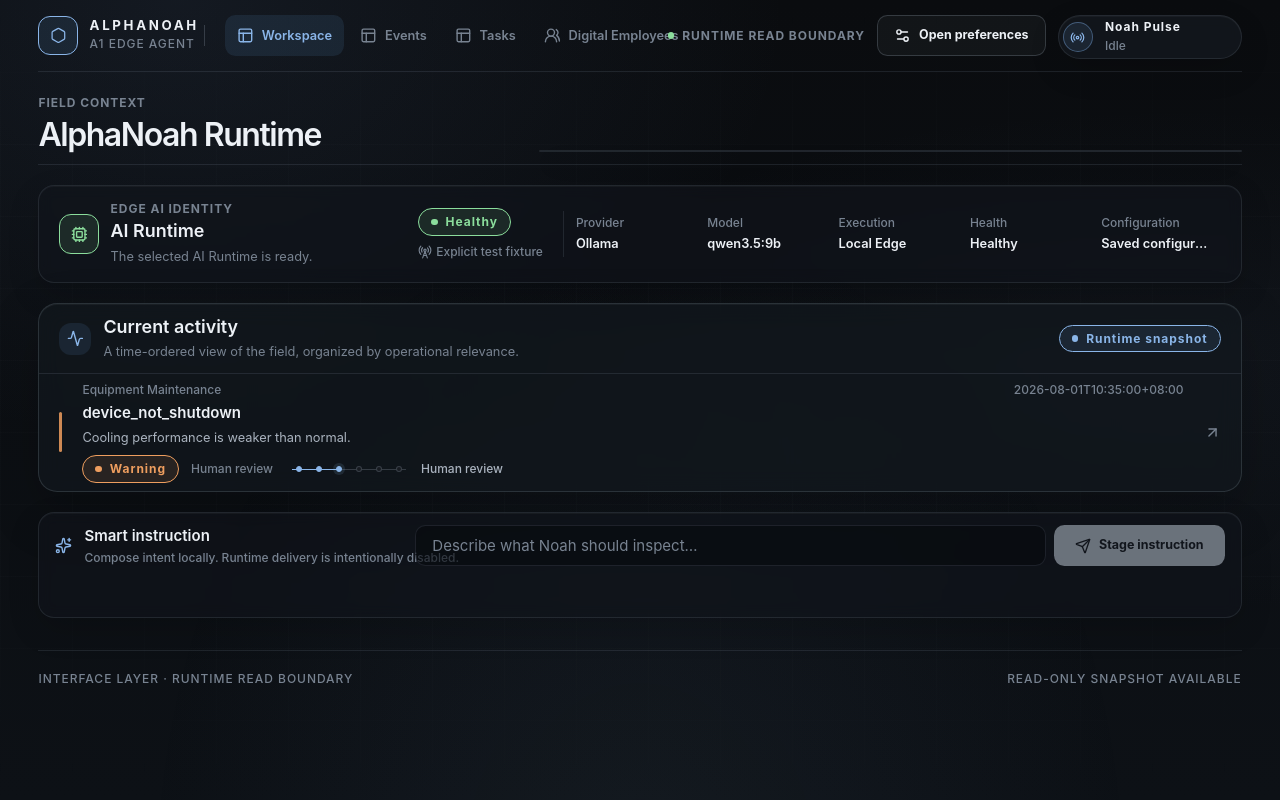
Test case: F04-B Human Review interaction › waits for approval and displays the persisted Task
Click the button "device_not_shutdown" at [152, 390], box [39, 374, 1241, 491]
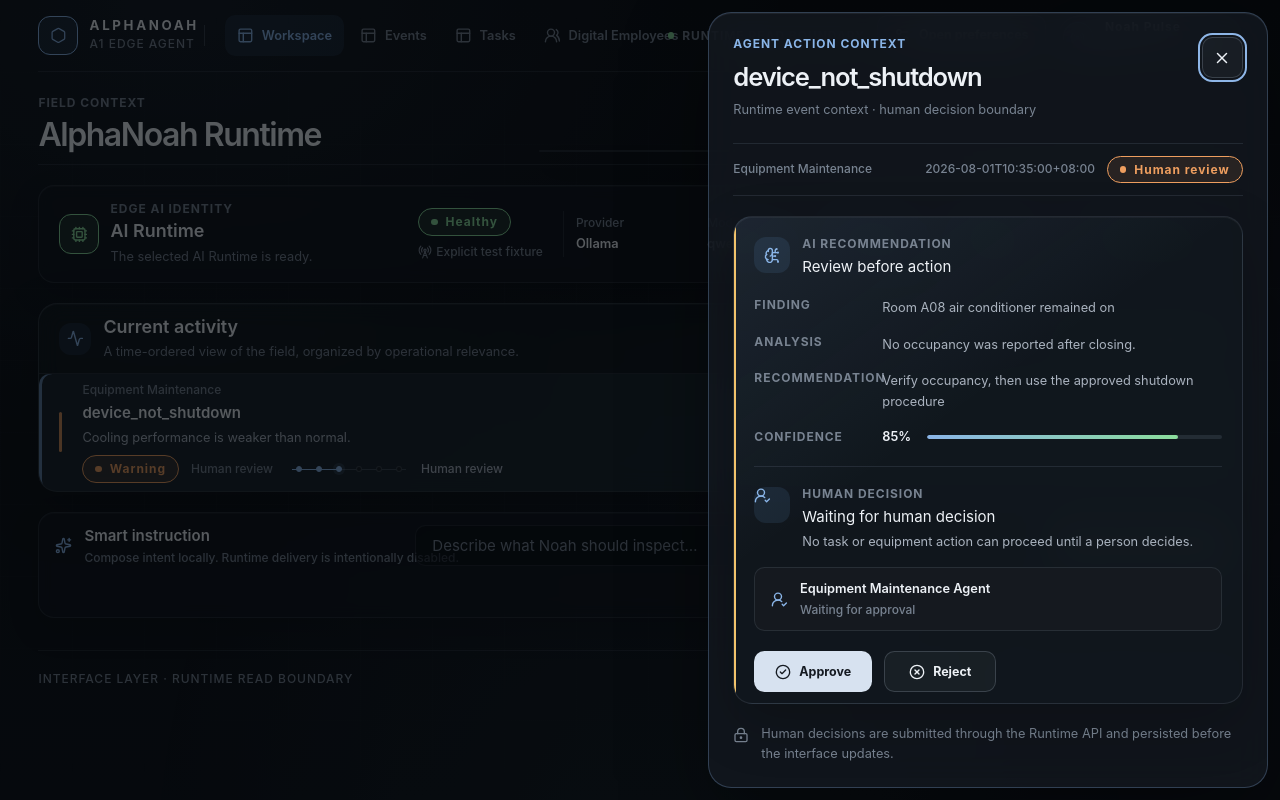
Click the button "Approve" at [813, 672], box [754, 651, 872, 692]
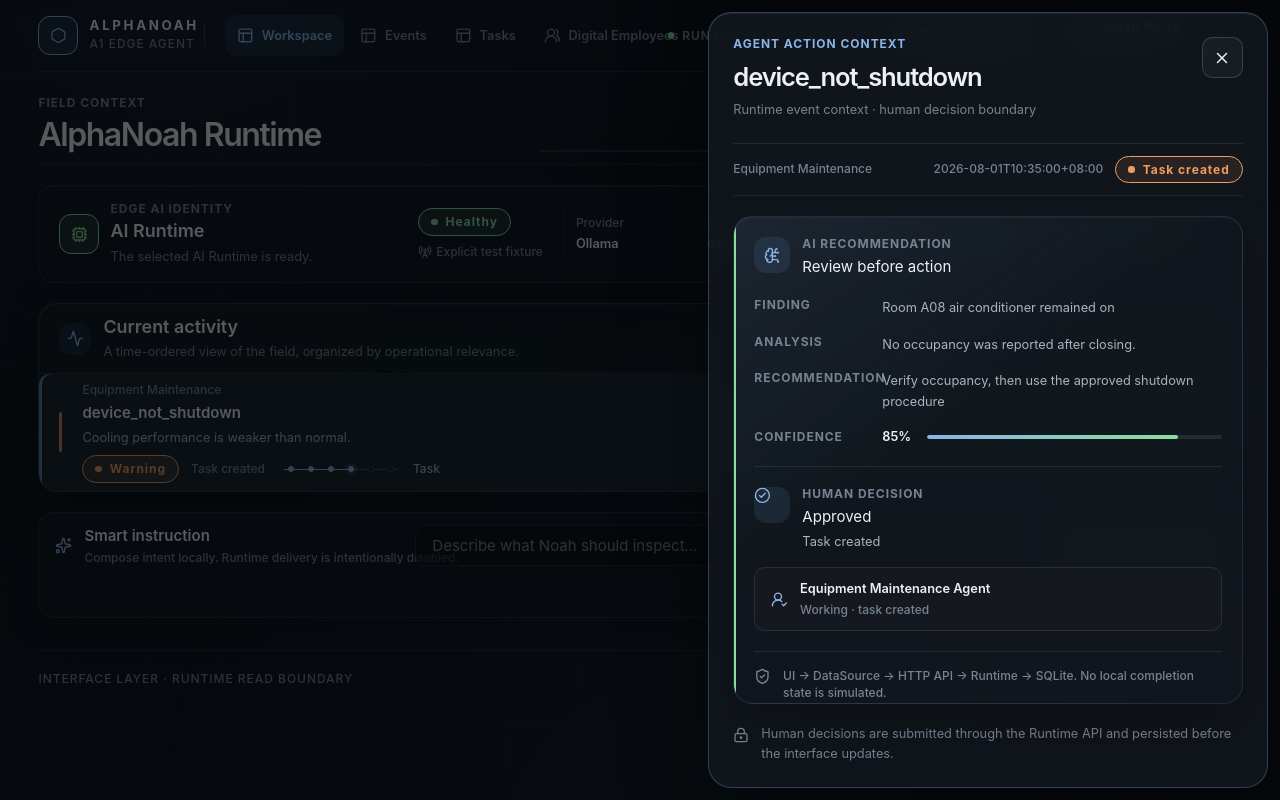
Check: the text "Approved" is shown, box [802, 507, 871, 526]
Check: the text "Working · task created" is shown, box [800, 602, 929, 617]
